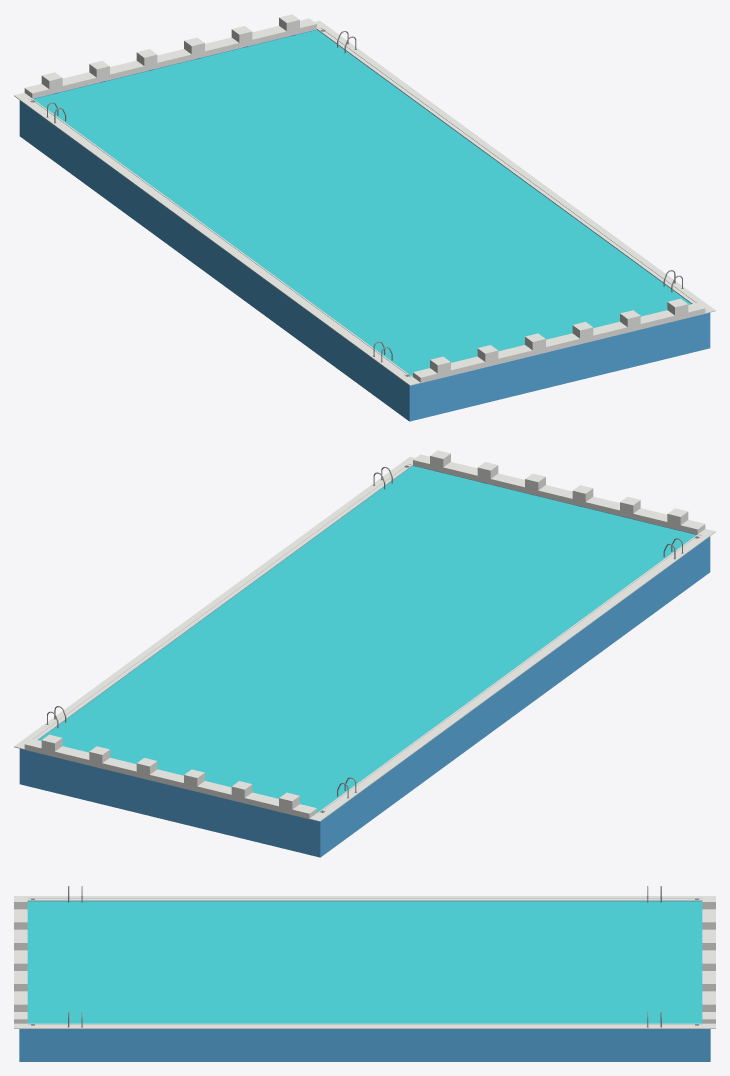
Rendered from pool_25m_v5.fbx.
3 views of the same model, one above another, from view 1: azimuth 30°, elevation 25°; view 2: azimuth 150°, elevation 25°; view 3: azimuth 270°, elevation 25° (orthographic). The views are drawn at different scales.
Visible parts, largest first — view 1: 水_S, yuka, yoko; view 2: 水_S, yuka, yoko; view 3: 水_S, yuka, yoko.
Part boxes in pixels (x1=…): 水_S: x1=33, y1=30, x2=691, y2=376; yuka: x1=19, y1=29, x2=710, y2=421; yoko: x1=14, y1=14, x2=715, y2=385; 水_S: x1=38, y1=466, x2=696, y2=812; yuka: x1=19, y1=465, x2=710, y2=857; yoko: x1=14, y1=450, x2=715, y2=821; 水_S: x1=27, y1=901, x2=702, y2=1023; yuka: x1=19, y1=899, x2=710, y2=1061; yoko: x1=14, y1=896, x2=715, y2=1028.
Size of the model in its own units: 11600 by 1930 by 26000.
